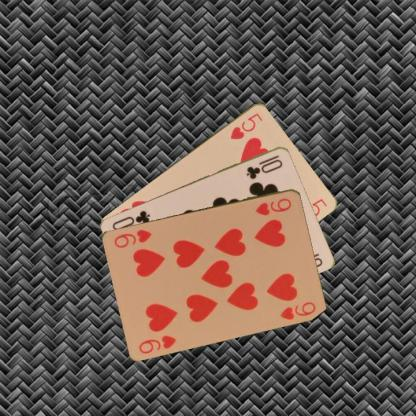10c: (244, 152, 284, 180)
5h: (228, 110, 264, 140)
9h: (136, 332, 178, 355), (252, 195, 293, 217)
